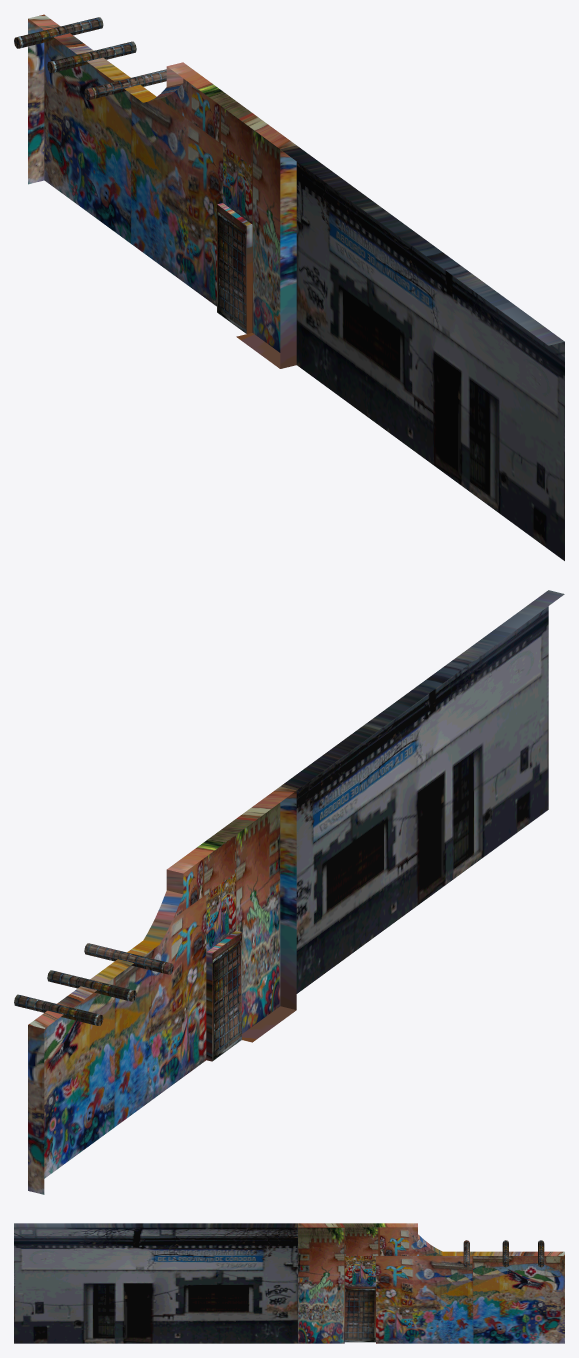
The model's file is Casa_Graffiti.fbx.
3 views of the same model, one above another, from view 1: azimuth 30°, elevation 25°; view 2: azimuth 150°, elevation 25°; view 3: azimuth 270°, elevation 25° (orthographic). The views are drawn at different scales.
Parts seen in each view (by area): view 1: Cube.027, CasaGraffiti; view 2: Cube.027, CasaGraffiti; view 3: Cube.027, CasaGraffiti.
Part boxes in pixels (box(x1,y1,x2,y2)): Cube.027: box(280, 145, 564, 560); CasaGraffiti: box(14, 14, 296, 368); Cube.027: box(280, 590, 564, 993); CasaGraffiti: box(14, 786, 296, 1194); Cube.027: box(14, 1223, 297, 1343); CasaGraffiti: box(298, 1223, 564, 1343).
Size of the model in its own units: 5.07 by 12.75 by 54.75.
